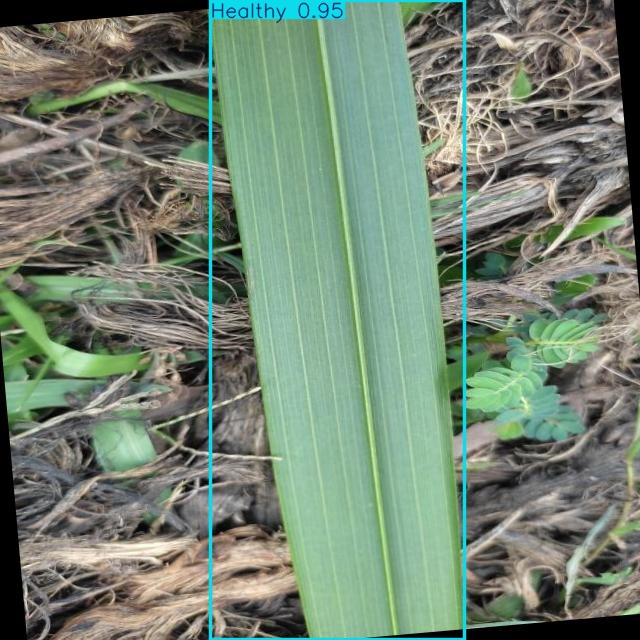Healthy: (211, 0, 465, 639)
